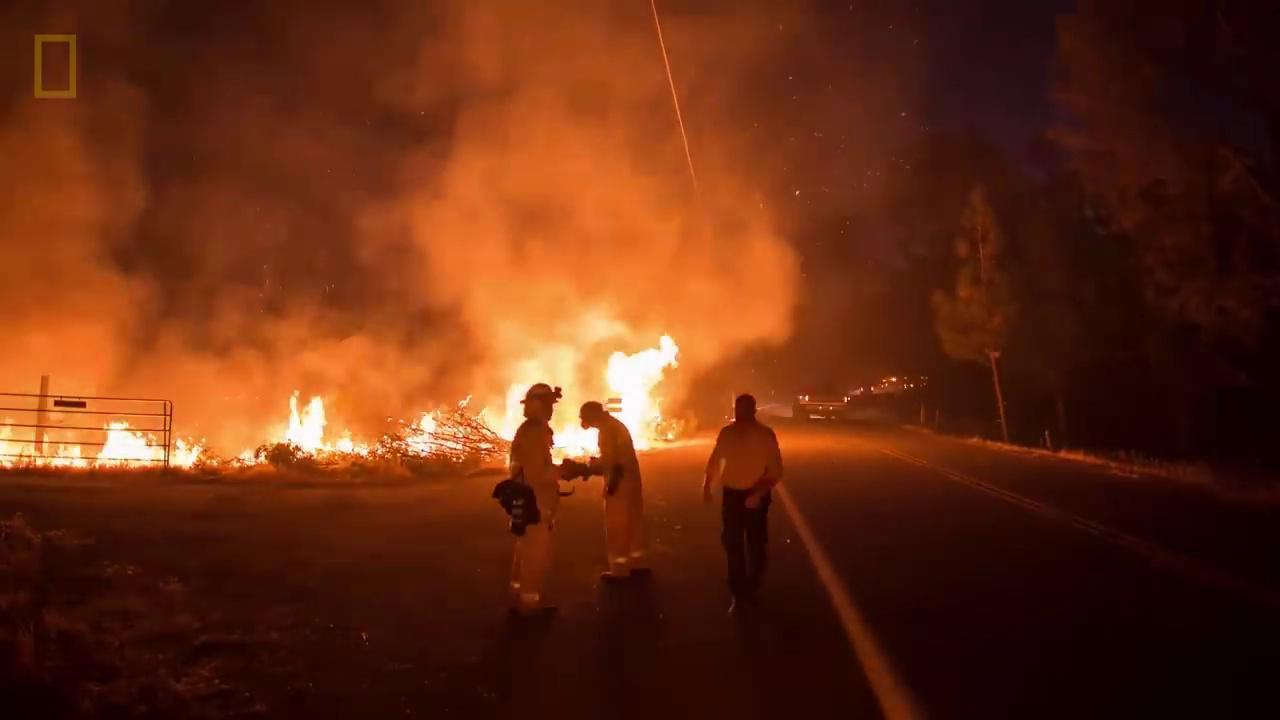Fire: (486, 339, 687, 453), (283, 396, 468, 466), (1, 424, 205, 472)
